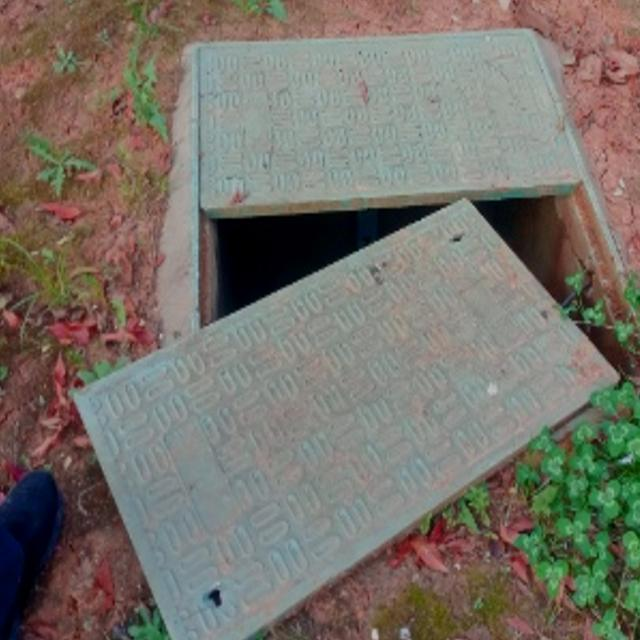uncovered: (72, 27, 640, 640)
